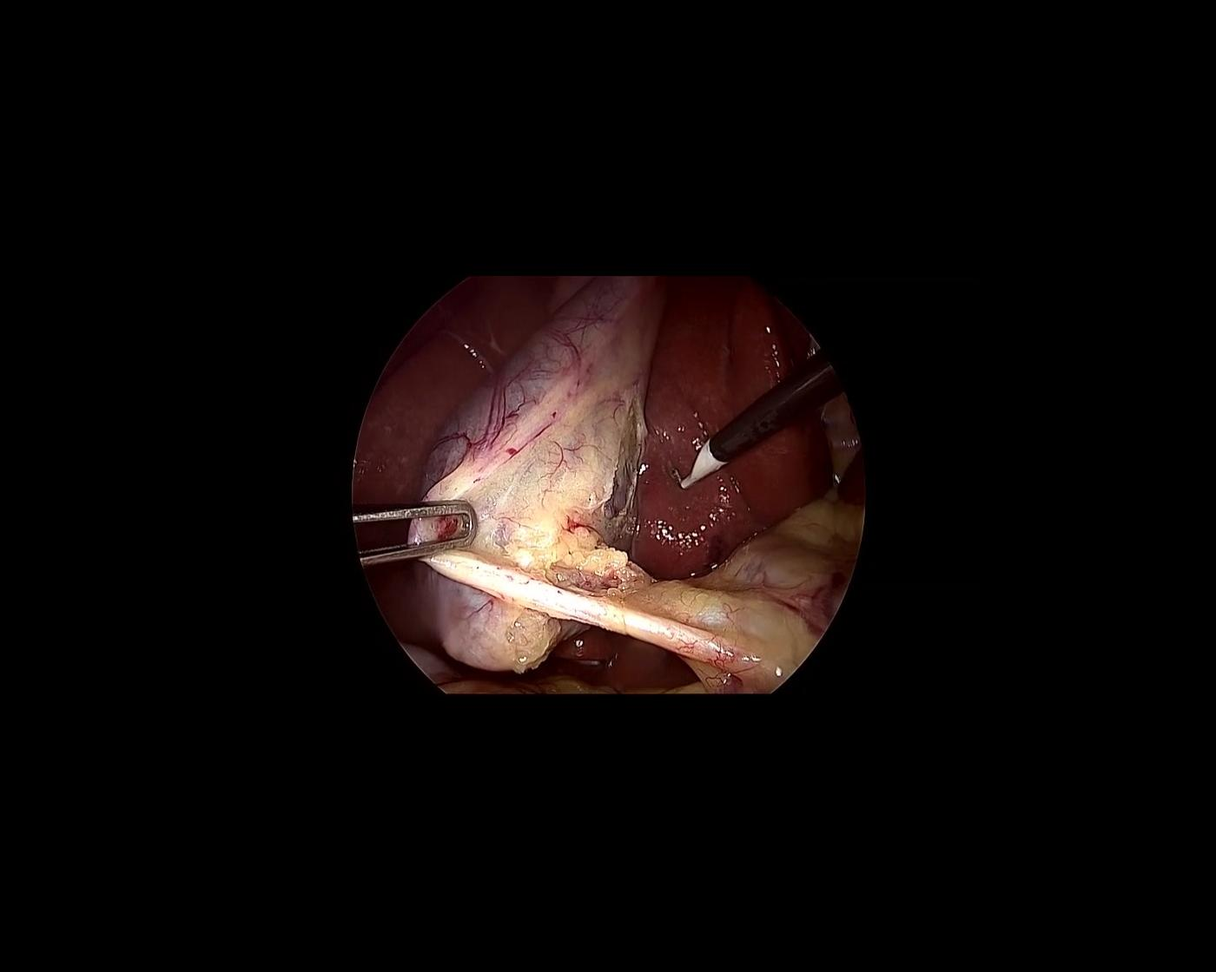Cautery: (657, 347, 848, 496)
Forceps: (356, 495, 482, 565)
Gallbladder: (399, 254, 662, 677)
Liver: (297, 225, 582, 647), (635, 274, 867, 583)
